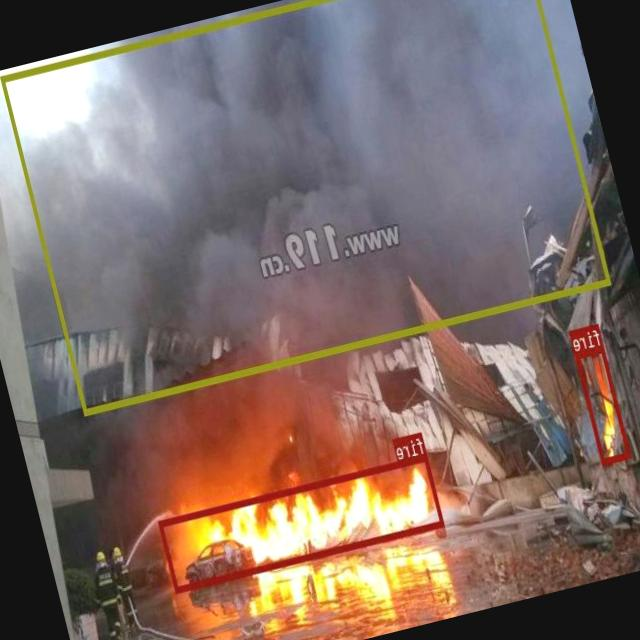fire: (158, 452, 446, 592), (574, 344, 630, 464)
smoke: (0, 0, 611, 413)
